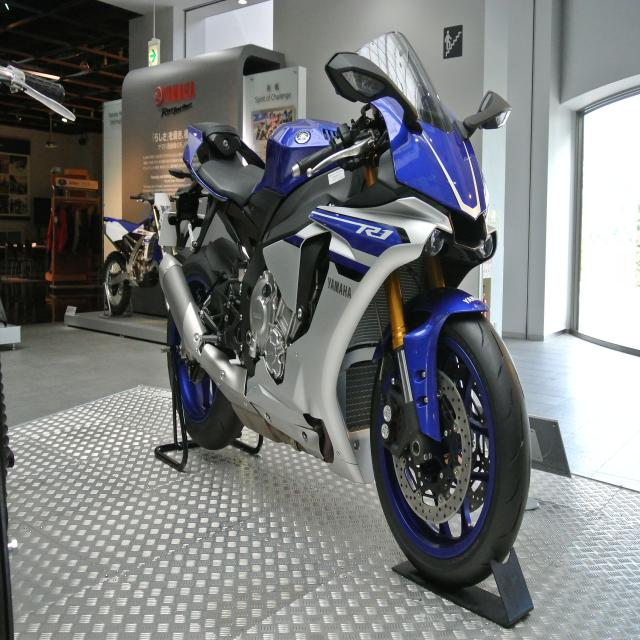Bike: (159, 32, 531, 588)
